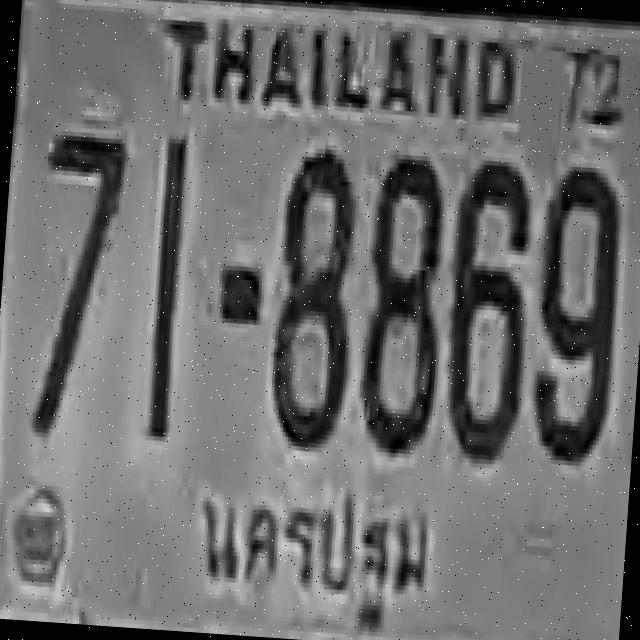1: (142, 133, 189, 437)
6: (439, 154, 537, 461)
7: (26, 130, 126, 437)
8: (264, 146, 362, 449), (355, 150, 450, 452)
9: (526, 160, 624, 463)
NakhonPathom: (184, 465, 443, 639)
